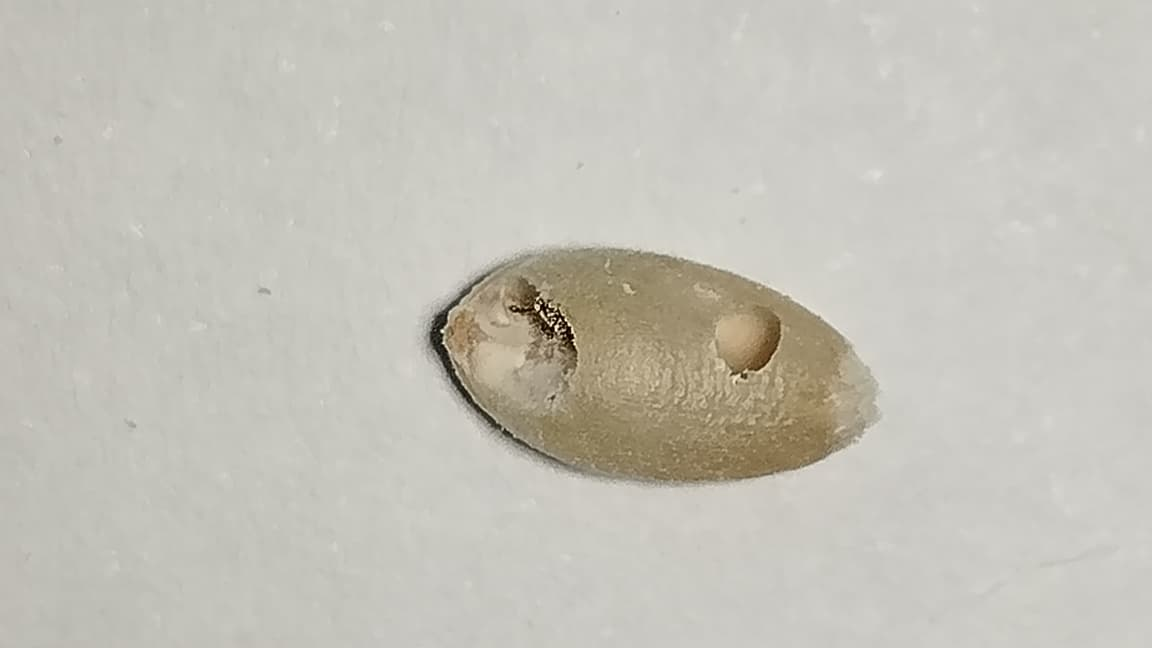damage: (440, 247, 874, 487)
insectdamage: (434, 271, 582, 417), (697, 294, 793, 382)
